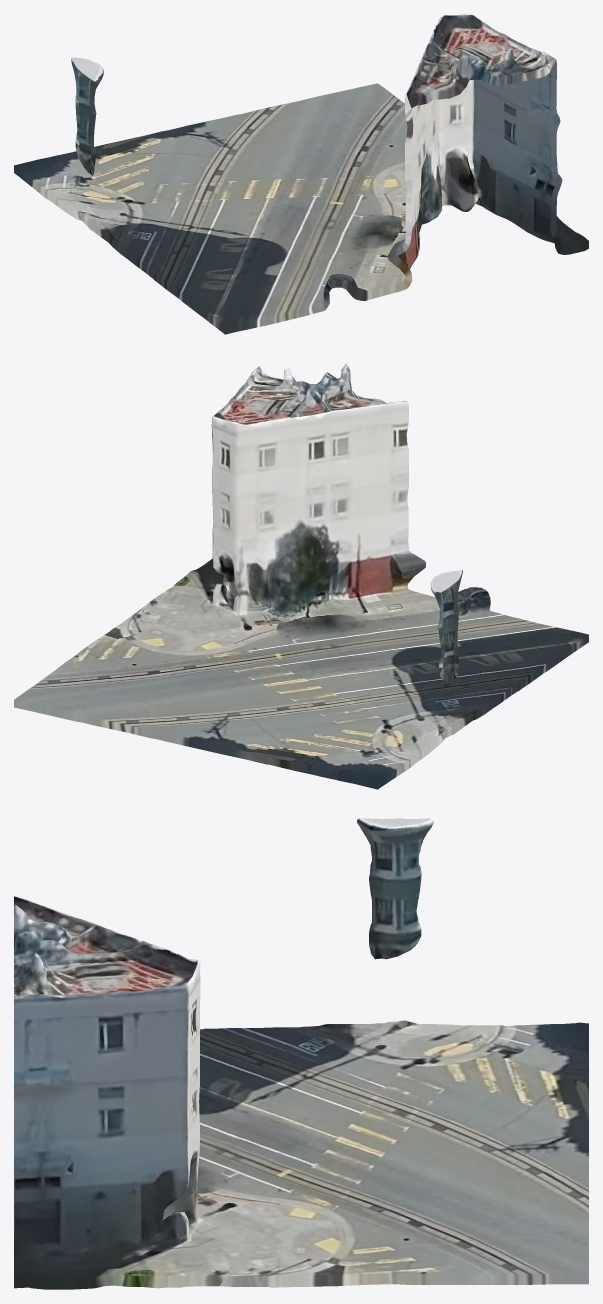
File: z20-167729-405191-h0-yup-uvflip-v3-world.glb
3 views of the same model, one above another, from view 1: azimuth 30°, elevation 25°; view 2: azimuth 150°, elevation 25°; view 3: azimuth 270°, elevation 25° (orthographic). The views are drawn at different scales.
Bounding box in the file's own units: 30.16 × 17.76 × 30.32.
Materials: 1 (1 with a texture image).
